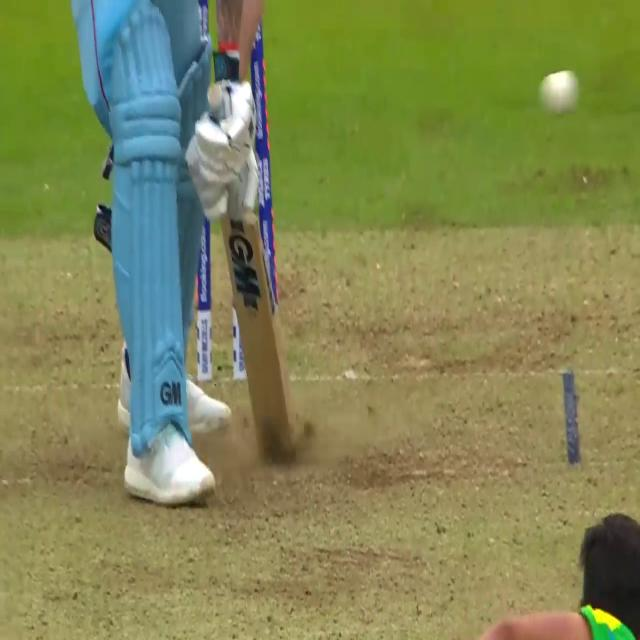ball: (543, 71, 577, 116)
